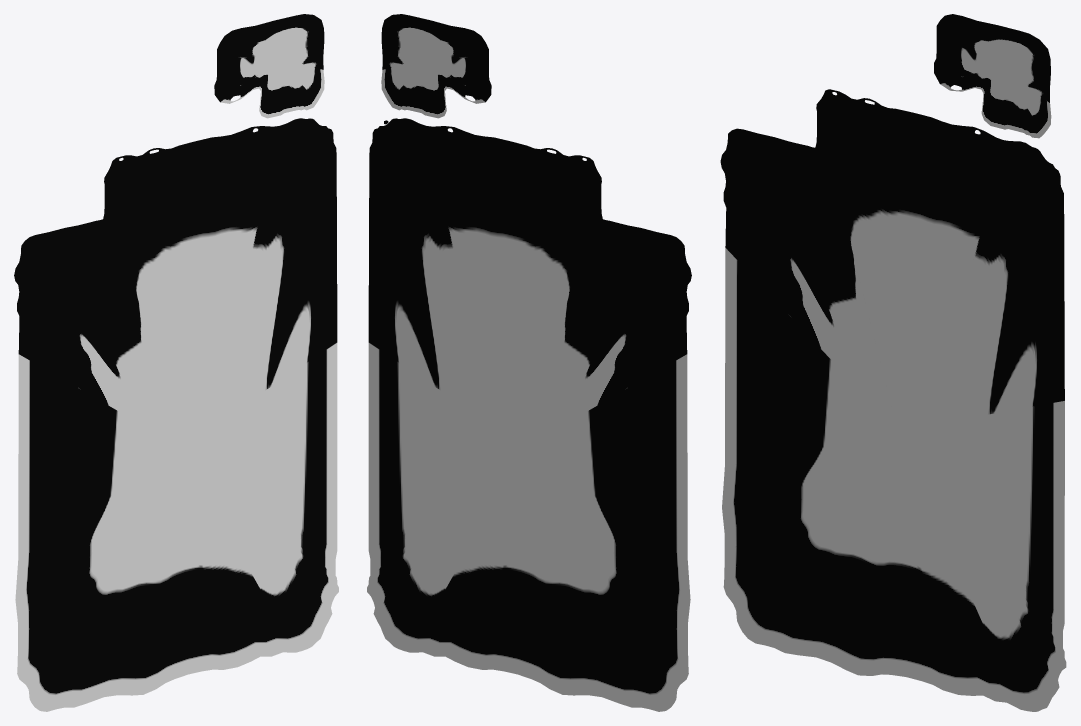
The model's file is scene1_paomo.FBX.
The picture shows the model from 3 angles, left to right: view 1: azimuth 30°, elevation 25°; view 2: azimuth 150°, elevation 25°; view 3: azimuth 330°, elevation 25°; orthographic projection. The views are drawn at different scales.
Visible parts, largest first — view 1: scene1_paomo; view 2: scene1_paomo; view 3: scene1_paomo.
Part boxes in pixels (x1=…): scene1_paomo: x1=14, y1=14, x2=338, y2=711; scene1_paomo: x1=367, y1=14, x2=691, y2=711; scene1_paomo: x1=720, y1=14, x2=1066, y2=711.
Size of the model in its own units: 1179 by 2229 by 0.0371.
Materials: 1 (1 with a texture image).
